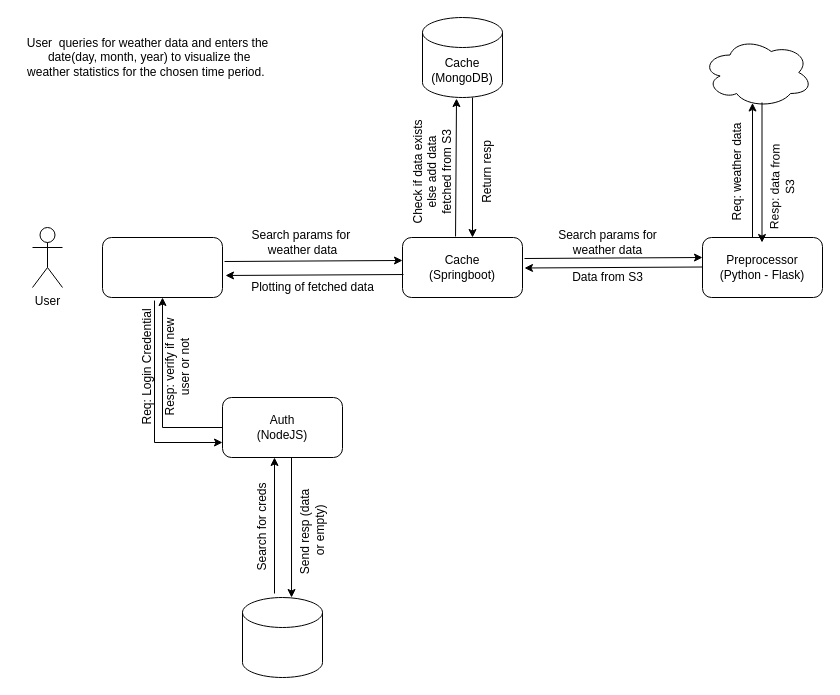
This 840x695 diagram has some shape labels left out. Each missing label, with the box of its shape:
AWS S3 Bucket: (702, 36, 812, 108)
User Interface (ReactJS): (102, 236, 222, 298)
User Table (MongoDB): (242, 596, 322, 678)
